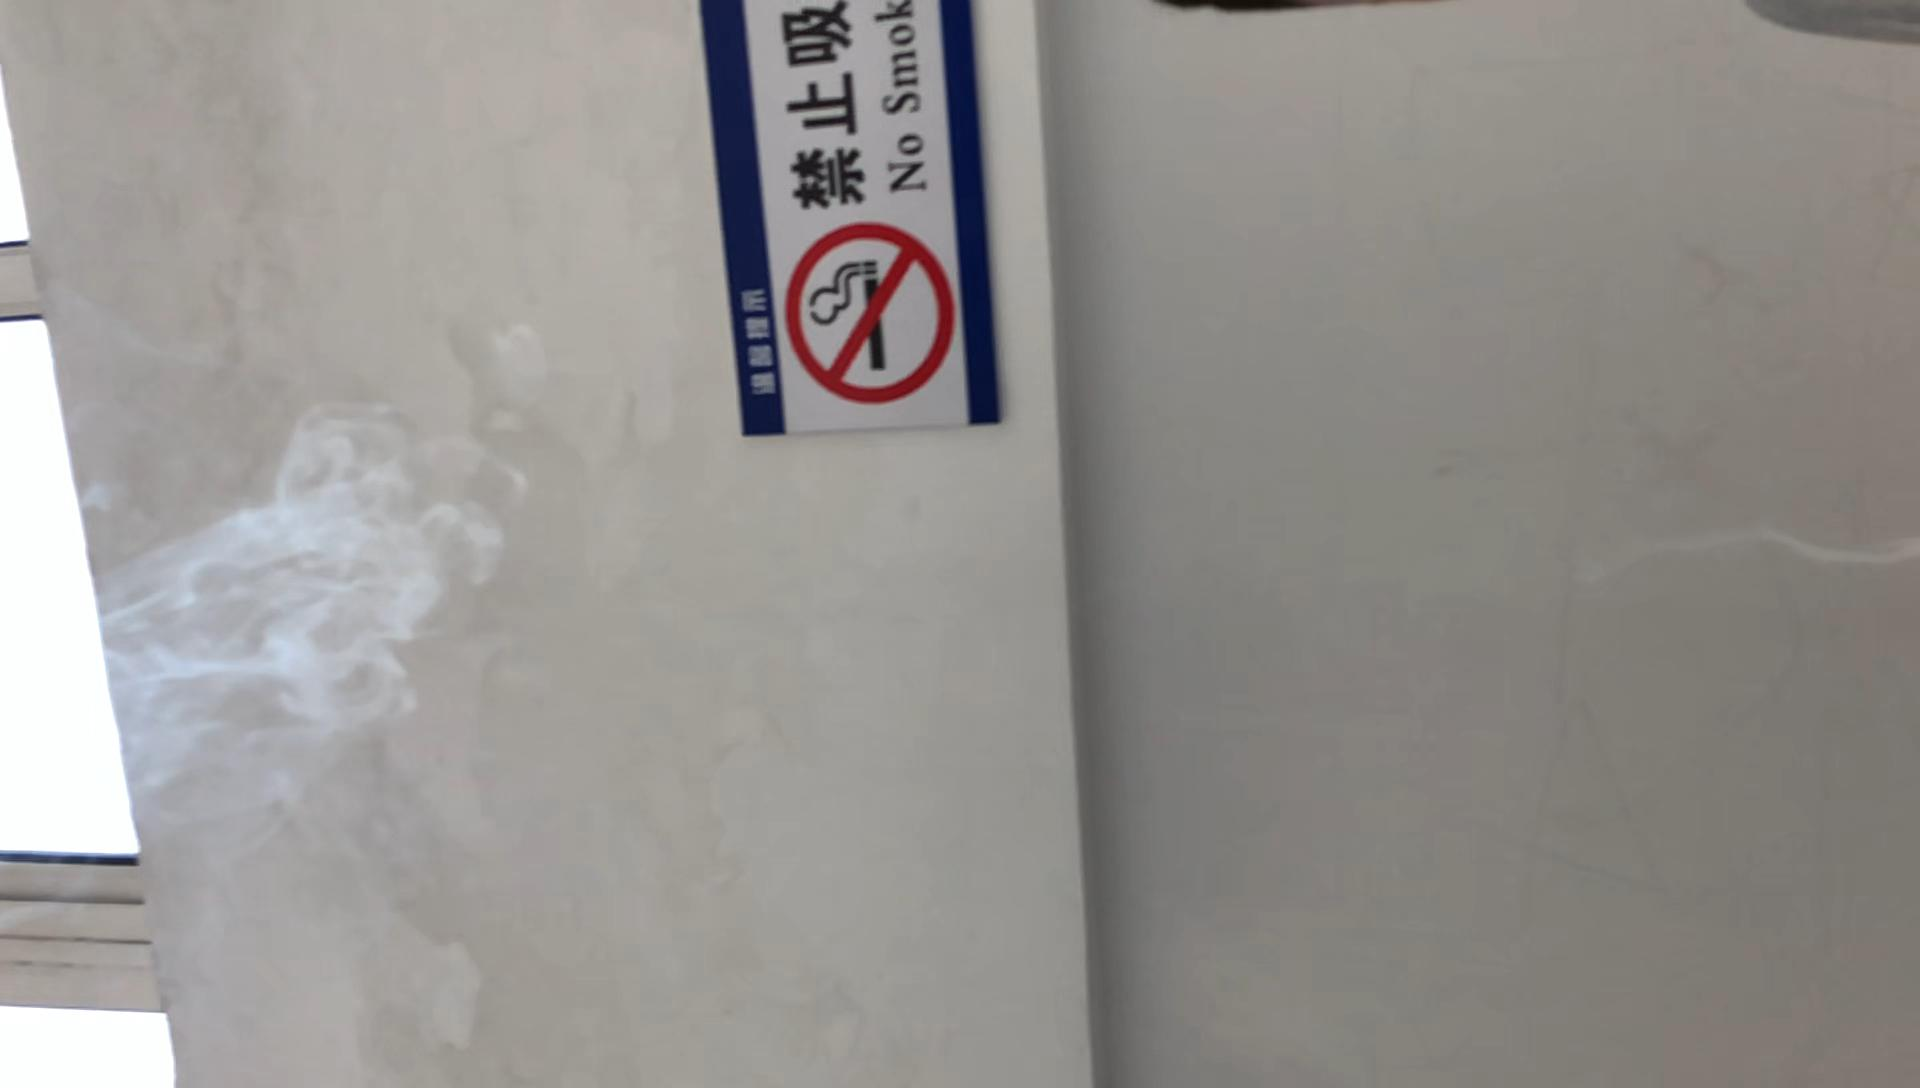yanwu: (98, 438, 483, 768)
